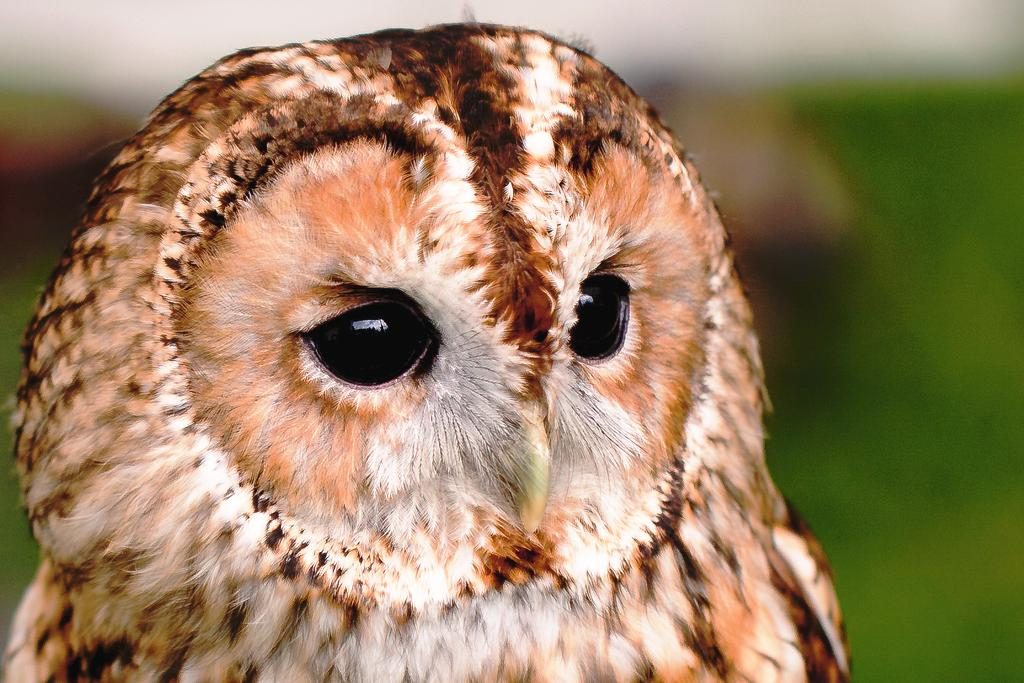Owl: (0, 12, 864, 682)
